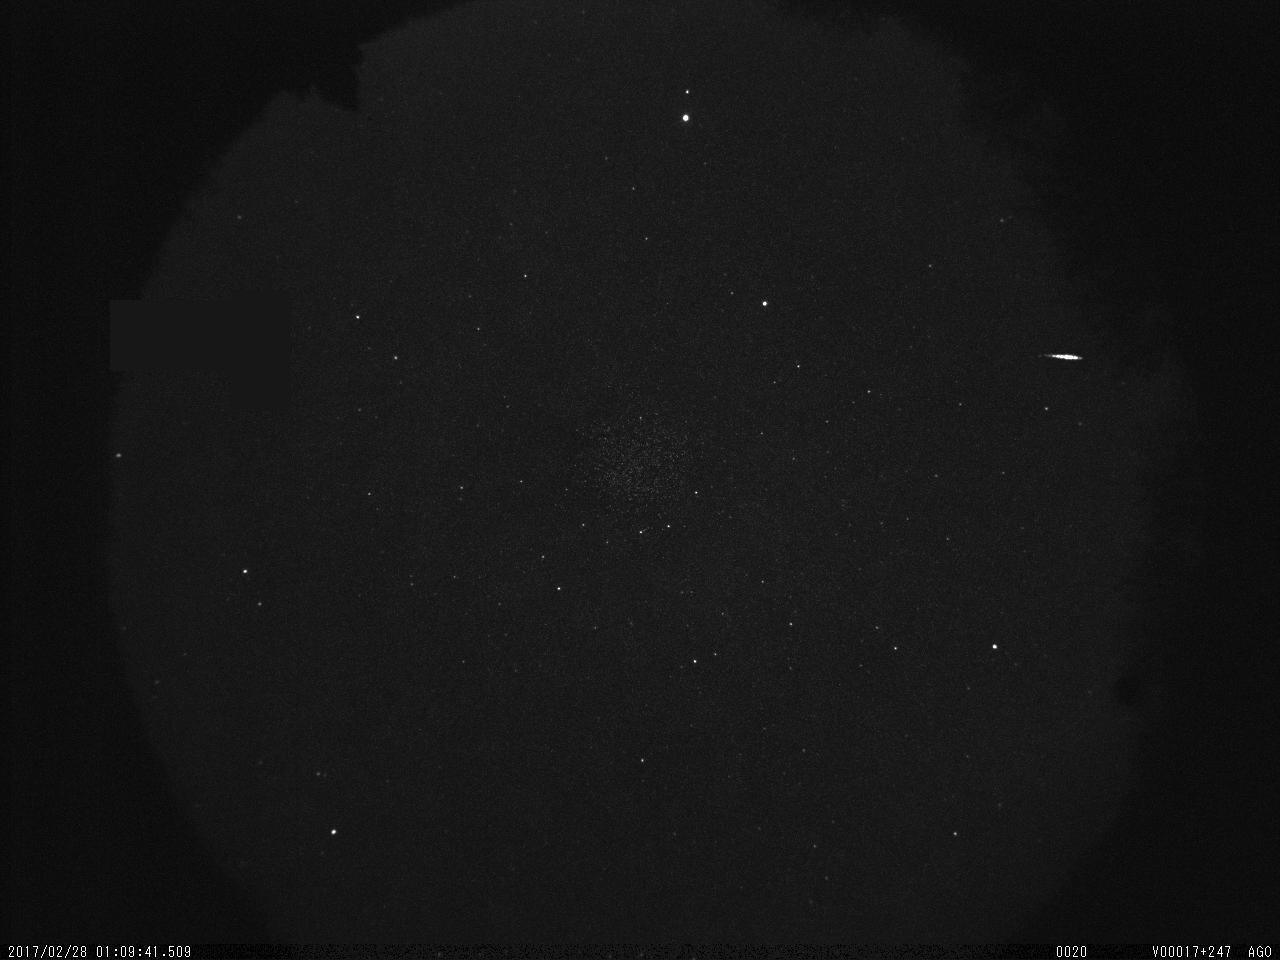meteor: (1031, 332, 1094, 400)
